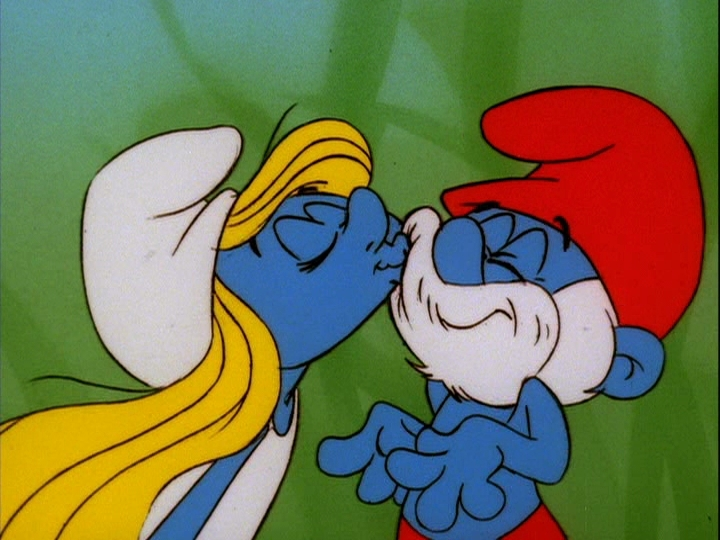smurf: (9, 117, 411, 540), (361, 87, 716, 540)
